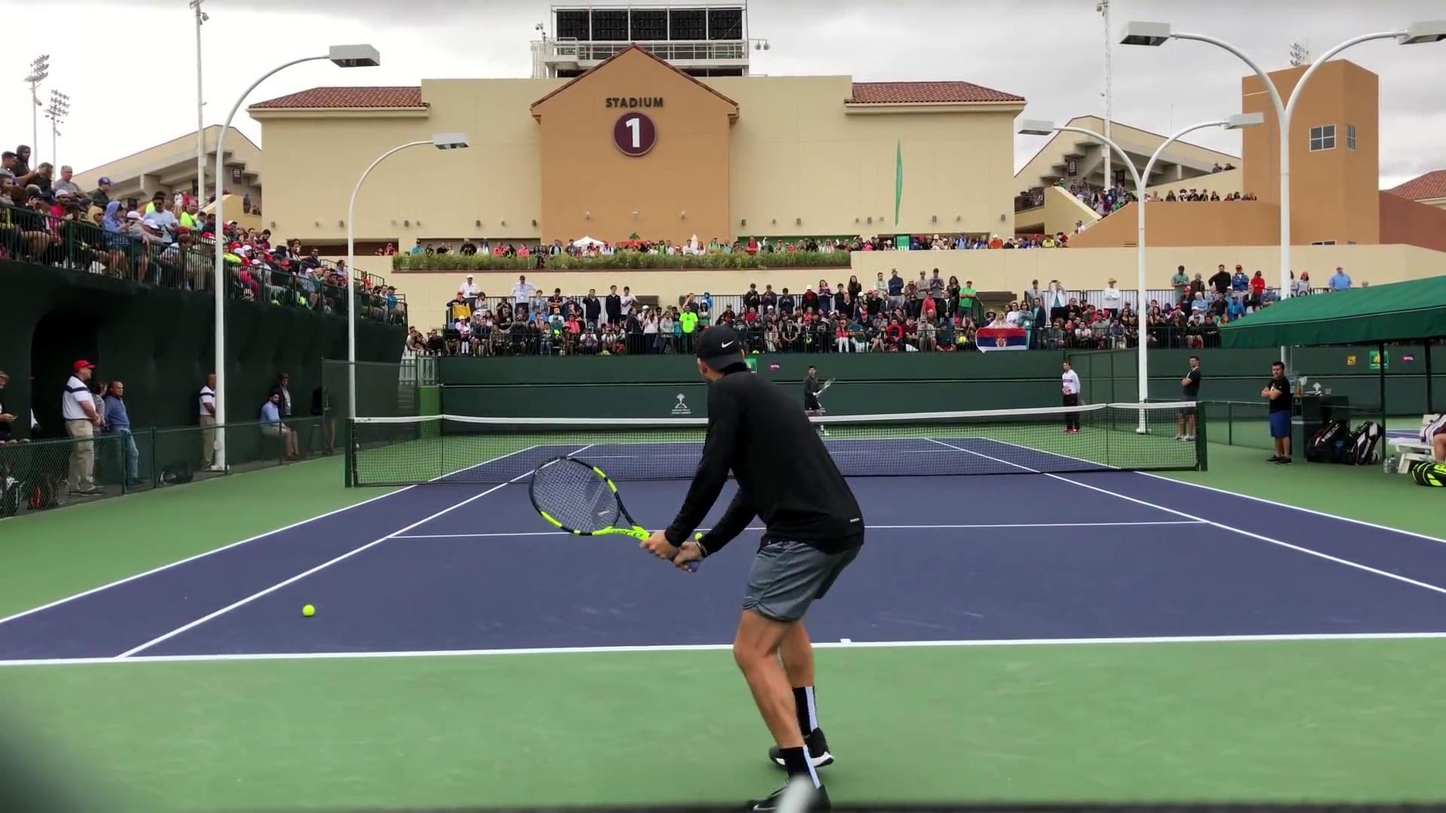ball: (302, 604, 315, 617), (693, 533, 703, 540)
